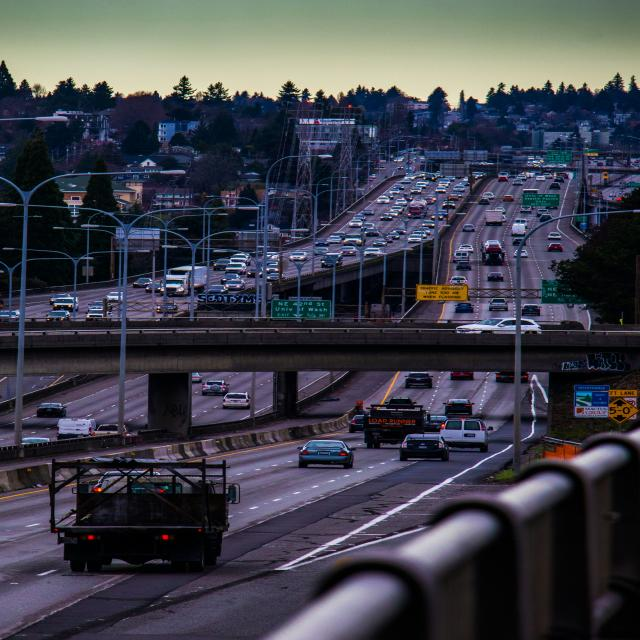16-Wheelers: (48, 456, 240, 573), (363, 402, 426, 449)
Car: (297, 439, 355, 468), (399, 434, 449, 462), (455, 318, 542, 334), (222, 392, 250, 408), (36, 403, 67, 417), (202, 380, 229, 395), (320, 254, 343, 268), (349, 414, 365, 432), (46, 310, 70, 322), (224, 279, 246, 290), (521, 304, 541, 316), (0, 310, 20, 322), (363, 247, 387, 257), (106, 291, 125, 302), (451, 371, 474, 380), (133, 278, 152, 288), (289, 251, 307, 261), (448, 276, 468, 285), (145, 282, 163, 292), (207, 285, 228, 293), (455, 303, 473, 312), (339, 246, 357, 255), (512, 237, 530, 246), (548, 242, 564, 252), (487, 272, 504, 281), (456, 261, 472, 270), (191, 372, 203, 383), (513, 250, 528, 258), (548, 232, 562, 240), (462, 224, 475, 232), (540, 214, 552, 222), (548, 182, 561, 189), (502, 195, 514, 201), (478, 198, 490, 204), (494, 207, 506, 212)
